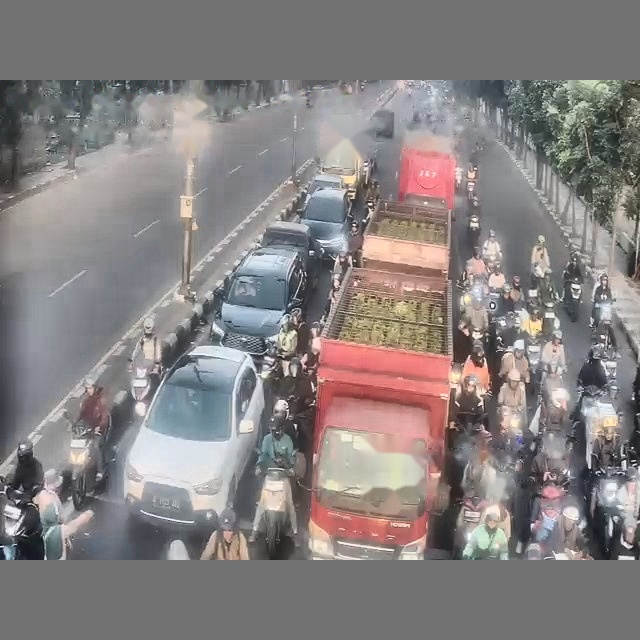Mobil: (124, 345, 264, 527), (210, 247, 310, 357), (260, 221, 322, 289), (298, 189, 352, 259), (304, 173, 344, 204), (372, 109, 394, 138)
Motor: (64, 412, 114, 510), (591, 468, 626, 557), (0, 490, 43, 559), (130, 361, 160, 416), (564, 278, 582, 321), (542, 302, 559, 338), (468, 213, 480, 245), (455, 167, 462, 192)
Truk: (309, 267, 451, 559), (362, 200, 451, 278), (398, 131, 456, 211)
